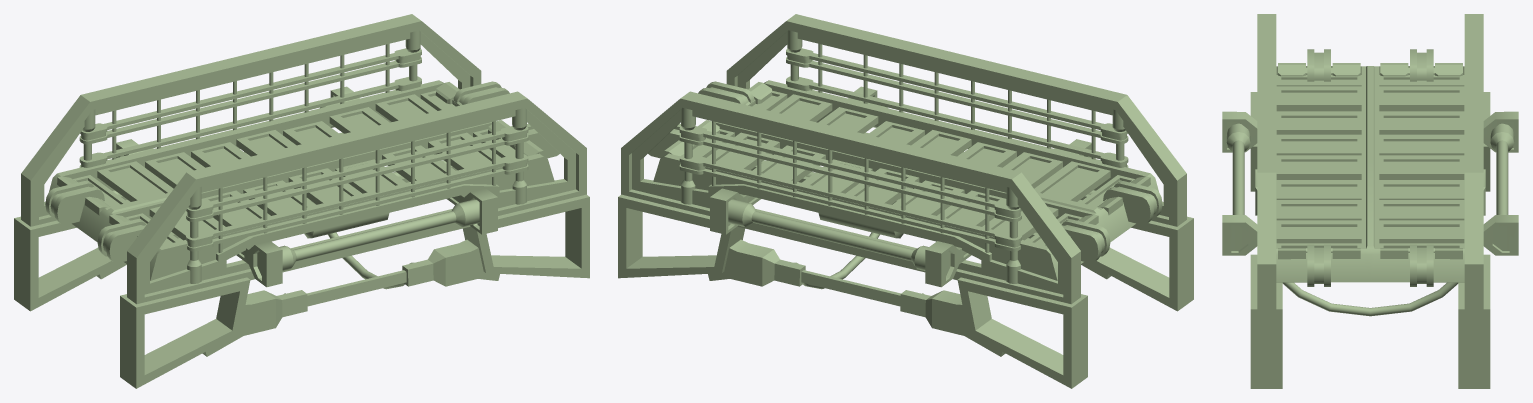
File: M_Bridge.FBX
3 renders of one model, left to right at view 1: azimuth 30°, elevation 25°; view 2: azimuth 150°, elevation 25°; view 3: azimuth 270°, elevation 25°, orthographic.
Visible parts, largest first — view 1: Bridge; view 2: Bridge; view 3: Bridge.
Boxes of the visible parts, <box> form: Bridge: <box>14,14,589,388</box>; Bridge: <box>618,14,1193,388</box>; Bridge: <box>1222,14,1518,388</box>.
Size of the model in its own units: 286 by 118 by 164.
